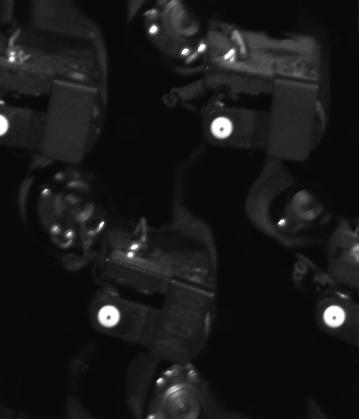fiber: (91, 300, 130, 335), (206, 112, 239, 143), (320, 300, 351, 333)
